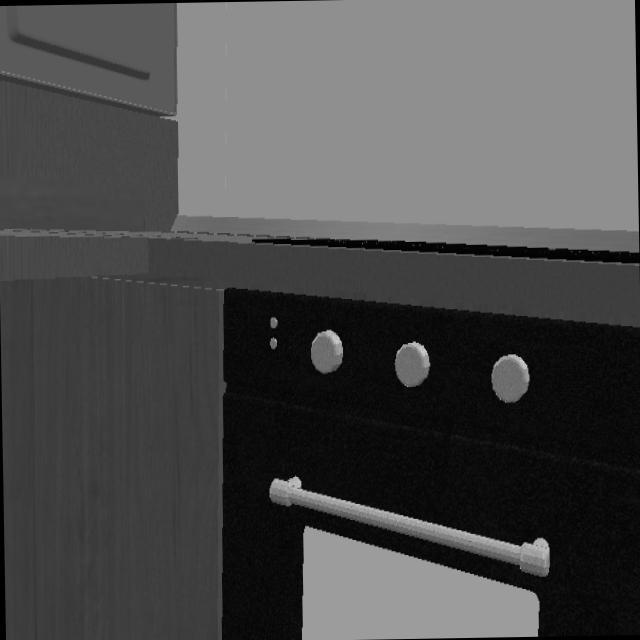countertop: (0, 208, 640, 328)
oven: (218, 291, 640, 640)
